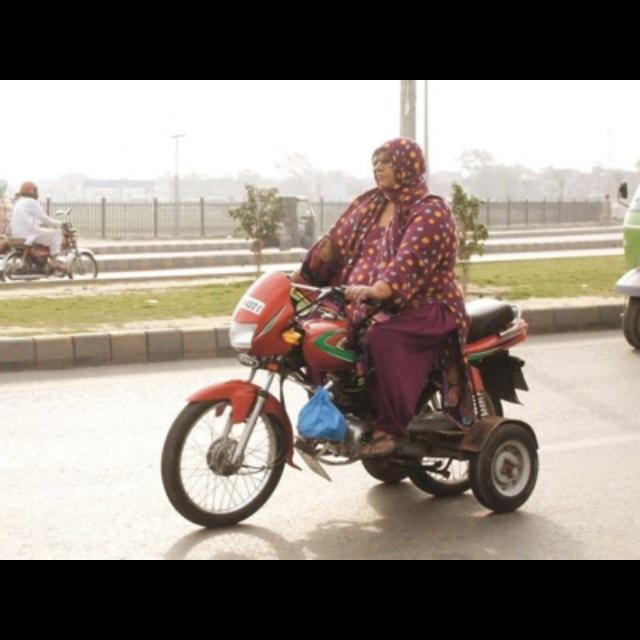Without Helmet: (357, 126, 437, 202)
